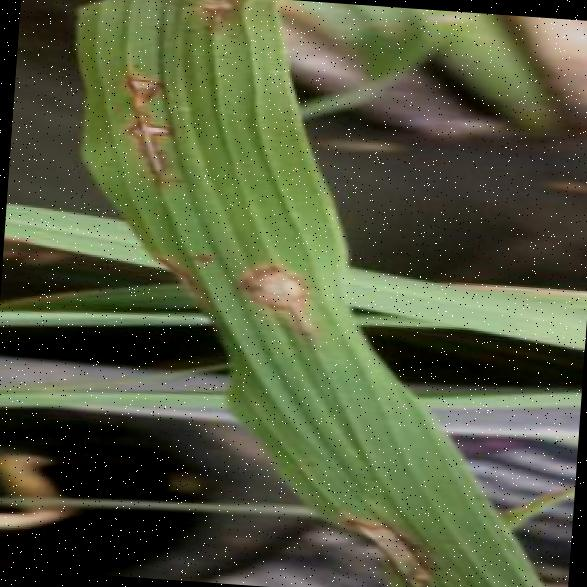Leaf_smut: (227, 224, 335, 352), (123, 229, 254, 331), (320, 487, 440, 587), (88, 48, 202, 130), (112, 100, 199, 180), (182, 0, 253, 31)
